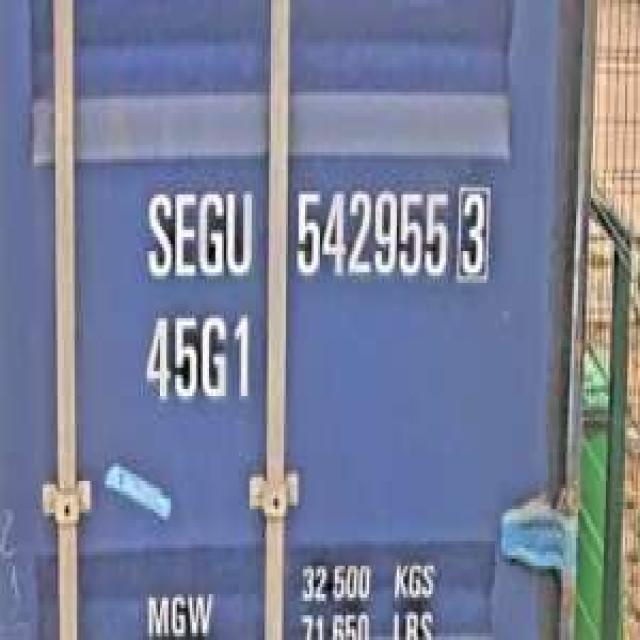dv: (452, 174, 493, 286)
owner: (139, 177, 254, 283)
serial: (290, 177, 448, 290)
size: (139, 304, 256, 410)
